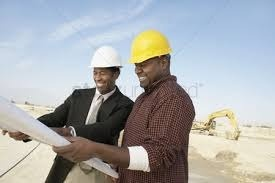helmet: (126, 27, 182, 67), (87, 45, 124, 70)
person with partial safety: (124, 30, 199, 180), (60, 46, 129, 178)
